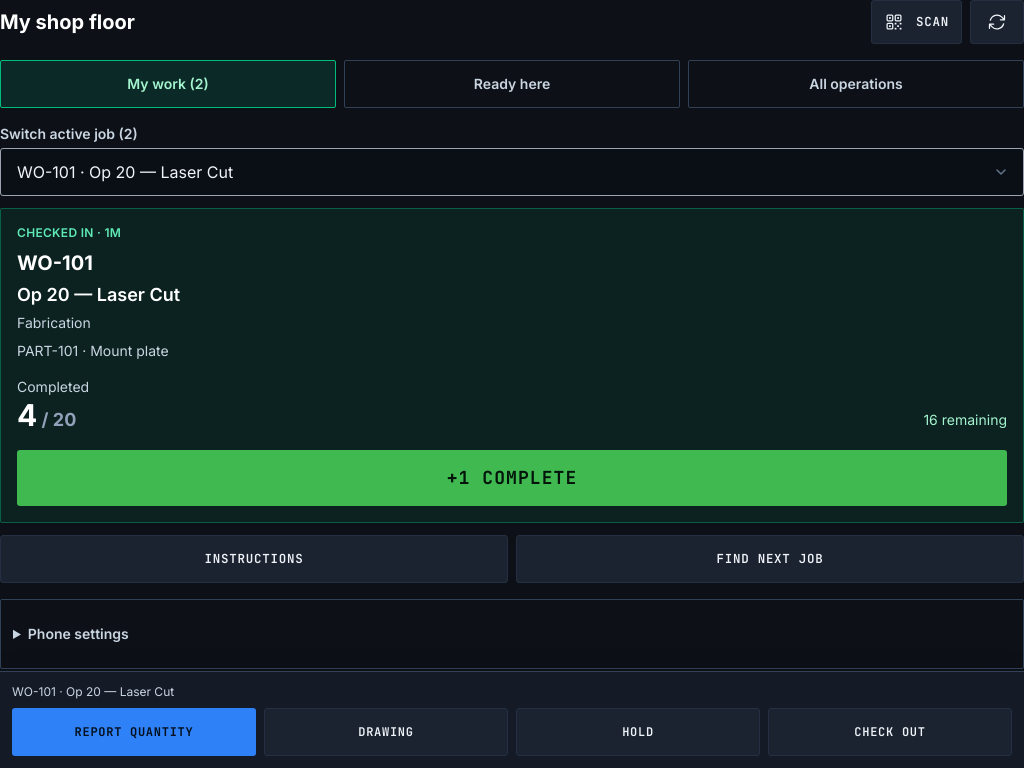
Test case: ShopFloorSimple phone workspace › lands on current work with useful actions when the checked-in operation is outside the queue
Expected: the heading "WO-101" is shown, [17,251,93,275]
Expected: the button "Drawing" is enabled, [264,708,508,756]
Click the button "Report quantity" at (134, 732), box [12,708,256,756]
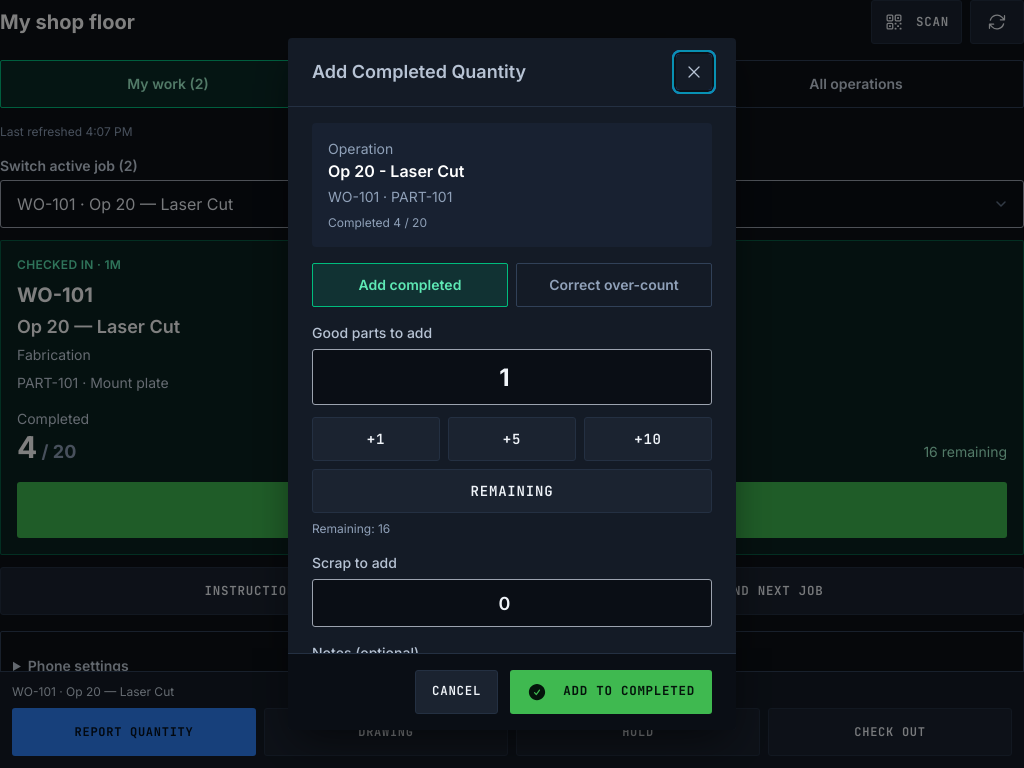
Expected: the text "WO-101 · PART-101" is shown, [328,188,452,205]
